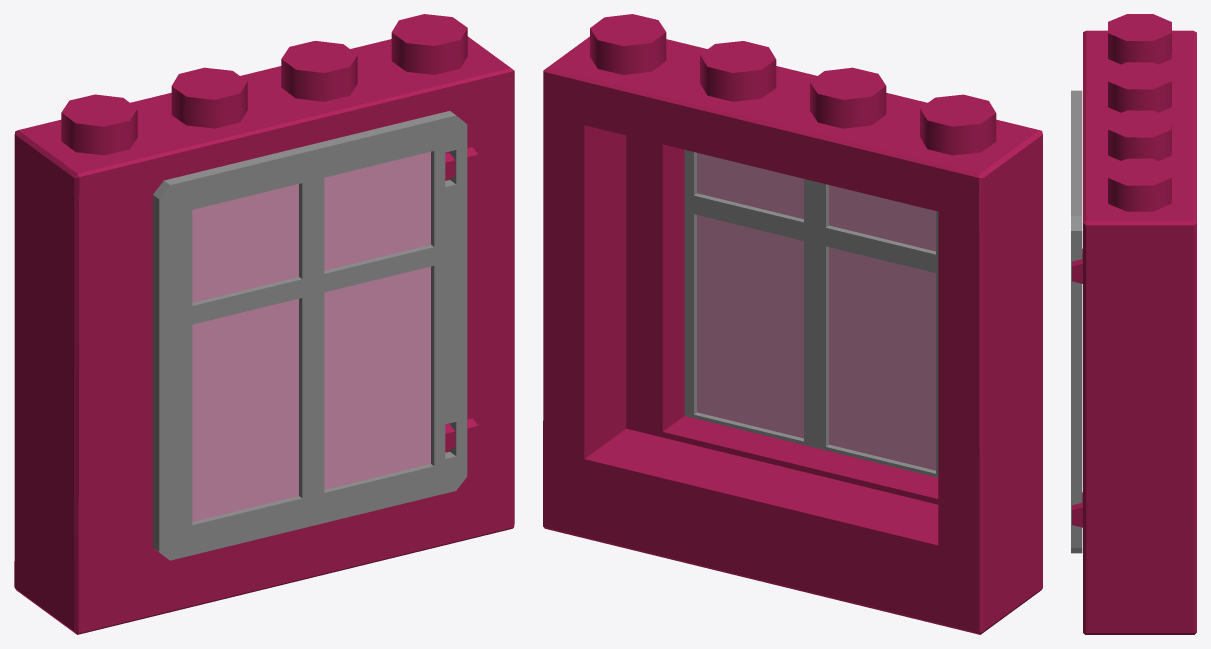
File: Part_House_Window_1X4.FBX
The picture shows the model from 3 angles, left to right: view 1: azimuth 30°, elevation 25°; view 2: azimuth 150°, elevation 25°; view 3: azimuth 270°, elevation 25°; orthographic projection. The views are drawn at different scales.
Parts seen in each view (by area): view 1: Part_House_Window_1X4, Part_House_Window_glass, Part_House_Window; view 2: Part_House_Window_1X4, Part_House_Window_glass, Part_House_Window; view 3: Part_House_Window_1X4, Part_House_Window.
Part boxes in pixels (box(x1,y1,x2,y2)): Part_House_Window_1X4: box(14, 14, 514, 634); Part_House_Window_glass: box(192, 151, 430, 521); Part_House_Window: box(153, 111, 467, 560); Part_House_Window_1X4: box(543, 14, 1042, 634); Part_House_Window_glass: box(697, 153, 935, 470); Part_House_Window: box(684, 150, 938, 477); Part_House_Window_1X4: box(1072, 14, 1196, 634); Part_House_Window: box(1071, 90, 1082, 553).
Size of the model in its own units: 400 by 425 by 110.
